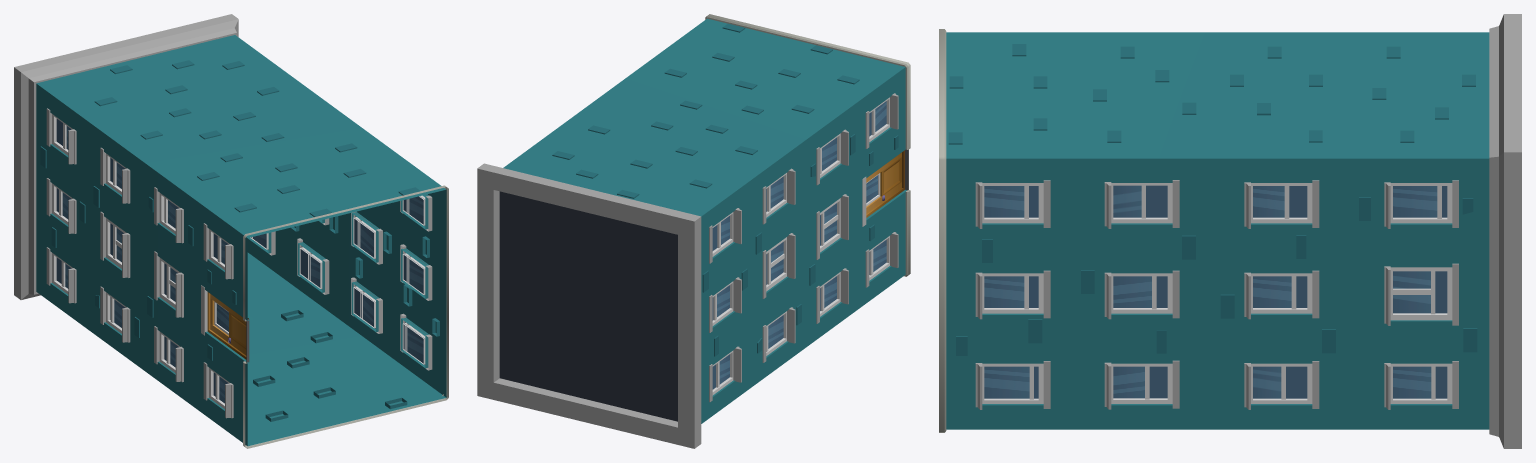
The model's file is Building_2_5_I.fbx.
3 views of the same model, side by side, from view 1: azimuth 30°, elevation 25°; view 2: azimuth 150°, elevation 25°; view 3: azimuth 270°, elevation 25° (orthographic). The views are drawn at different scales.
Parts seen in each view (by area): view 1: Building_2_5_I; view 2: Building_2_5_I; view 3: Building_2_5_I.
Part boxes in pixels (x1,y1,x2,y2): Building_2_5_I: (14, 14, 448, 448); Building_2_5_I: (477, 14, 910, 448); Building_2_5_I: (939, 14, 1521, 448).
Size of the model in its own units: 620 by 620 by 1105.
